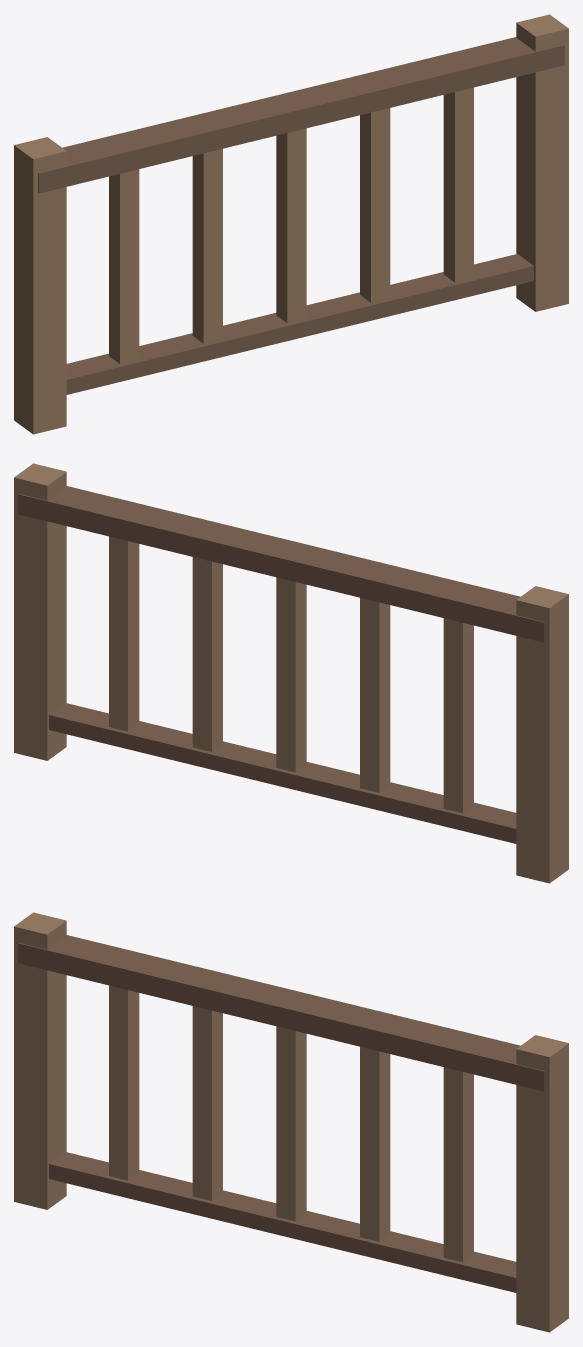
Rendered from haunted_railing_wood.glb.
3 views of the same model, one above another, from view 1: azimuth 30°, elevation 25°; view 2: azimuth 150°, elevation 25°; view 3: azimuth 330°, elevation 25° (orthographic).
Visible parts, largest first — view 1: Haunted_Railing_Wood; view 2: Haunted_Railing_Wood; view 3: Haunted_Railing_Wood.
Part boxes in pixels (left/top/right/bottom): Haunted_Railing_Wood: left=14, top=14, right=568, bottom=434; Haunted_Railing_Wood: left=14, top=463, right=568, bottom=883; Haunted_Railing_Wood: left=14, top=912, right=568, bottom=1332.
Size of the model in its own units: 2.24 by 1.1 by 0.15.
